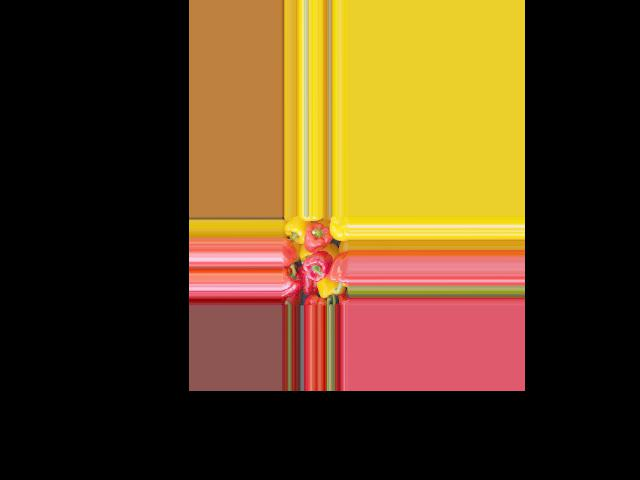bell_pepper: (286, 216, 308, 241)
